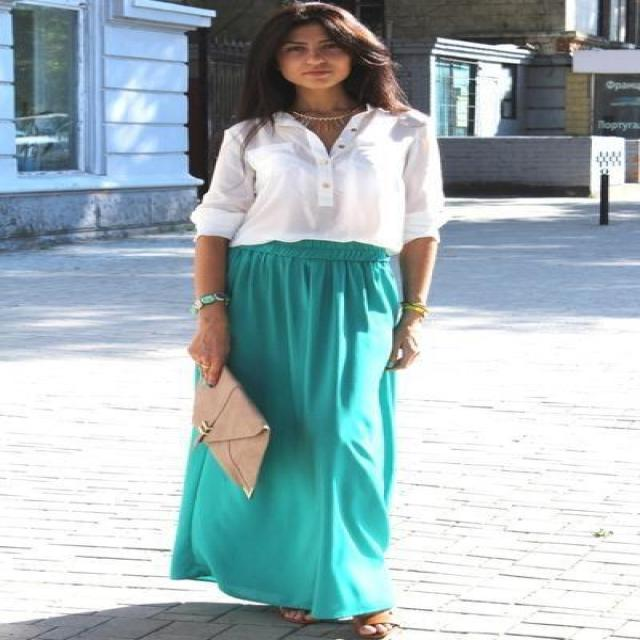bag: (190, 371, 269, 497)
shirt: (190, 90, 458, 264)
shoe: (261, 605, 434, 639)
skirt: (171, 239, 402, 619)
